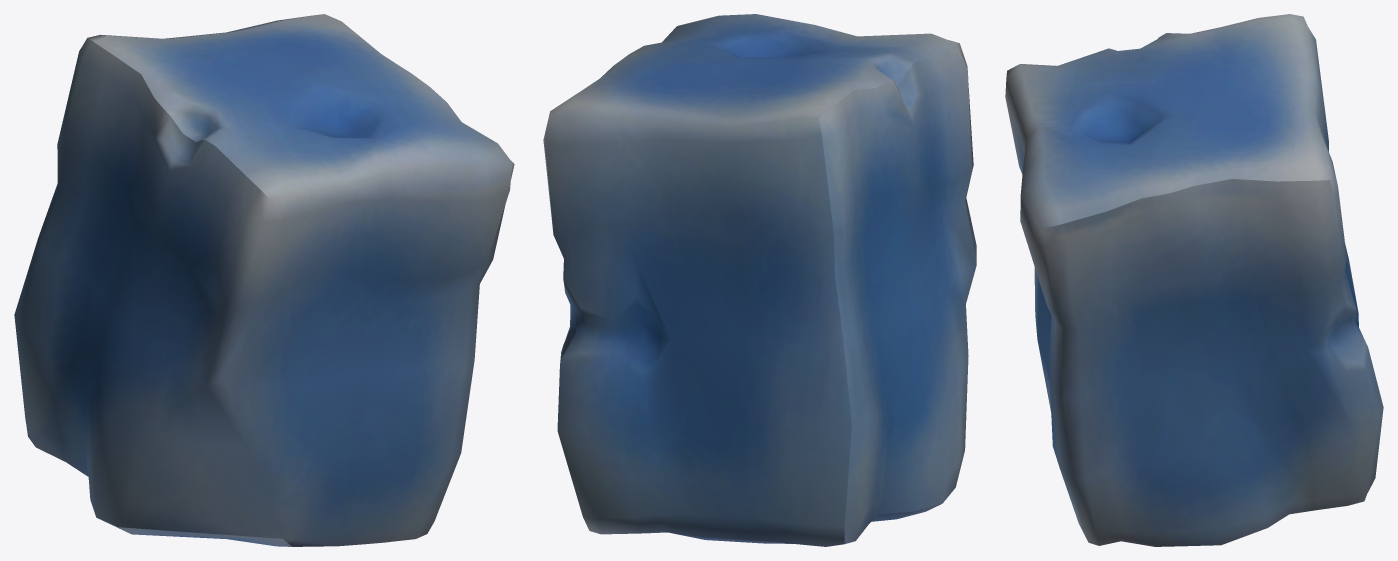
Rendered from p_dlc09_iceblock_02 (4).fbx.
The picture shows the model from 3 angles, left to right: view 1: azimuth 30°, elevation 25°; view 2: azimuth 150°, elevation 25°; view 3: azimuth 270°, elevation 25°; orthographic projection. The views are drawn at different scales.
Visible parts, largest first — view 1: p_dlc09_iceblock_02 (4); view 2: p_dlc09_iceblock_02 (4); view 3: p_dlc09_iceblock_02 (4).
Boxes of the visible parts, box(x1,y1,x2,y2) form: p_dlc09_iceblock_02 (4): box(14, 14, 514, 546); p_dlc09_iceblock_02 (4): box(543, 14, 976, 546); p_dlc09_iceblock_02 (4): box(1005, 14, 1383, 546).
Bounding box in the file's own units: 1.43 × 1.48 × 1.88.
1 material, 1 textured.
